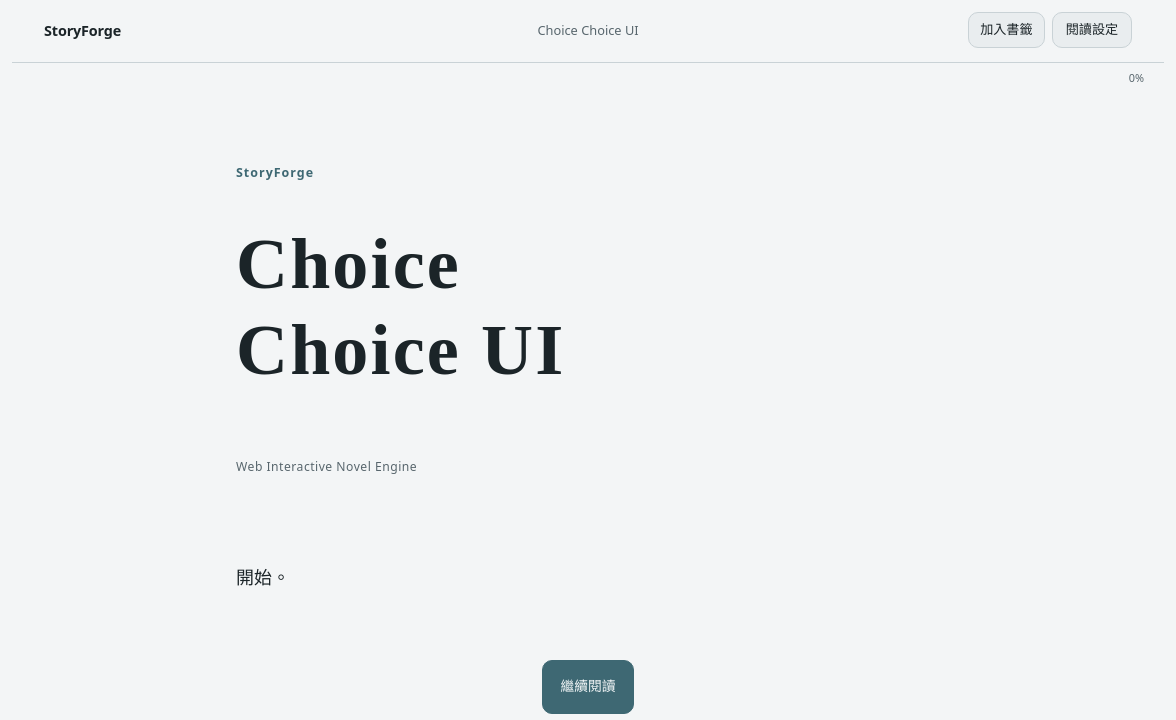
Book reader › keeps causal feedback visible when a Choice commits into another Choice
The image size is (1176, 720).
Click the button "繼續閱讀": (588, 686) [542,660,634,714]
(page scrolled)
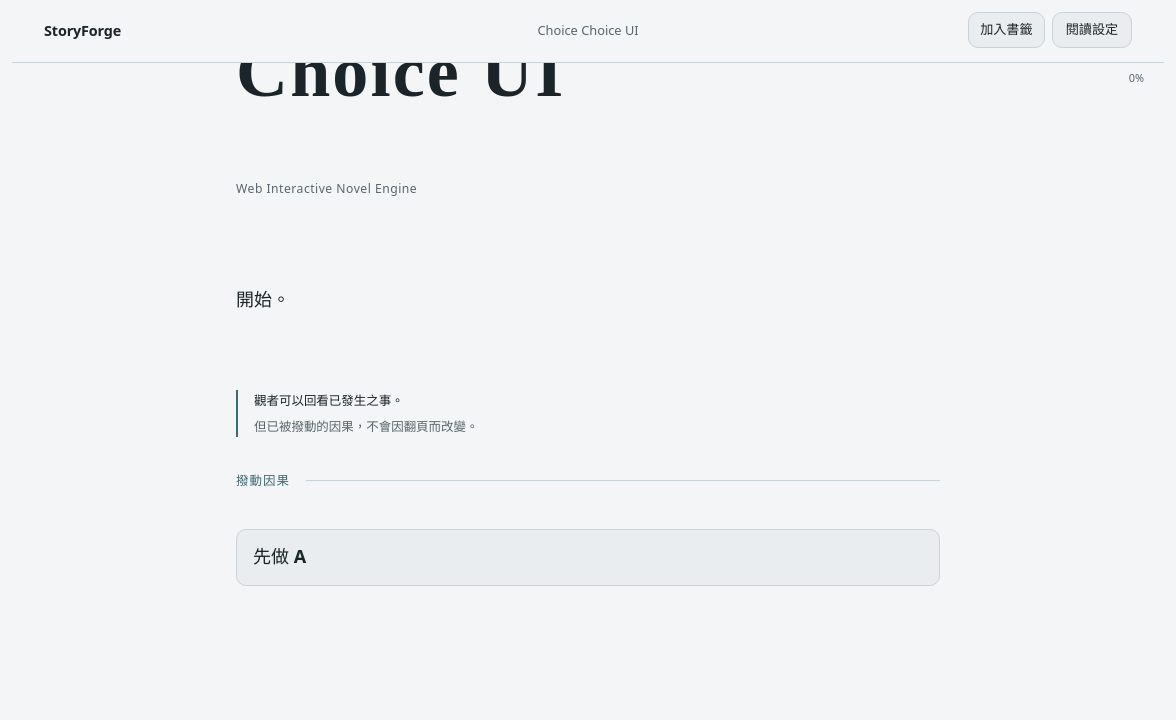
Click the button "先做 A": (280, 556) [236,529,940,586]
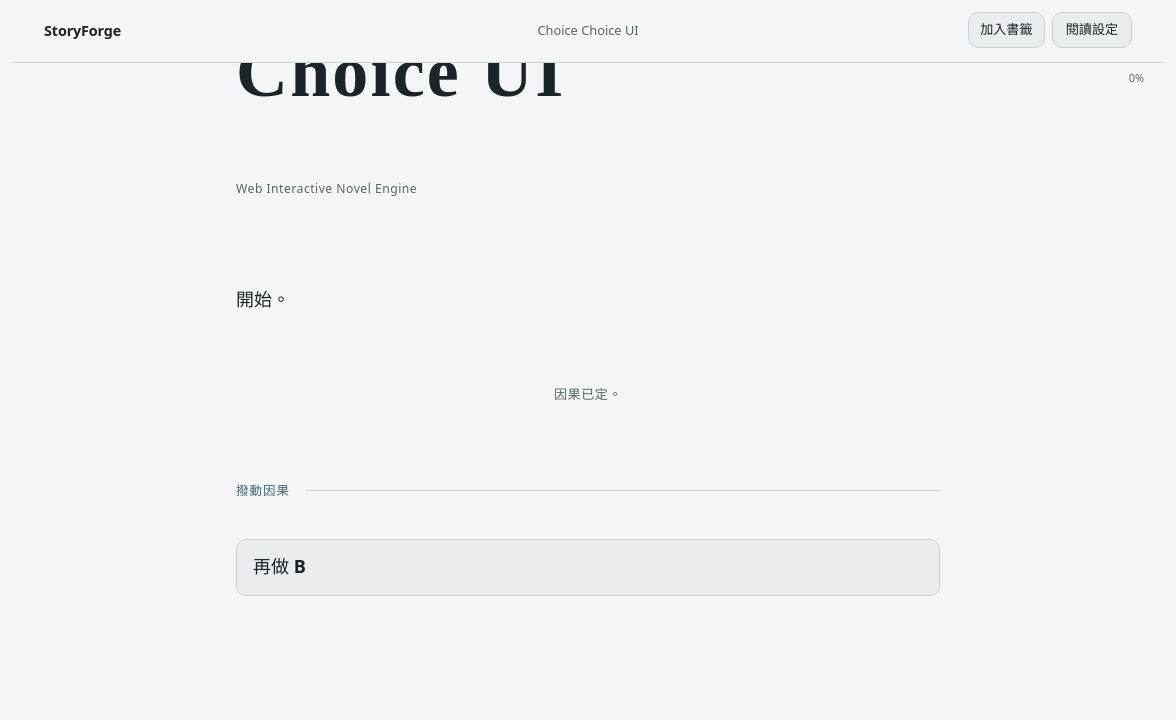
Check: the text "因果已定。" is shown, box [554,384,622,402]
Check: the button "再做 B" is shown, box [236,539,940,596]
